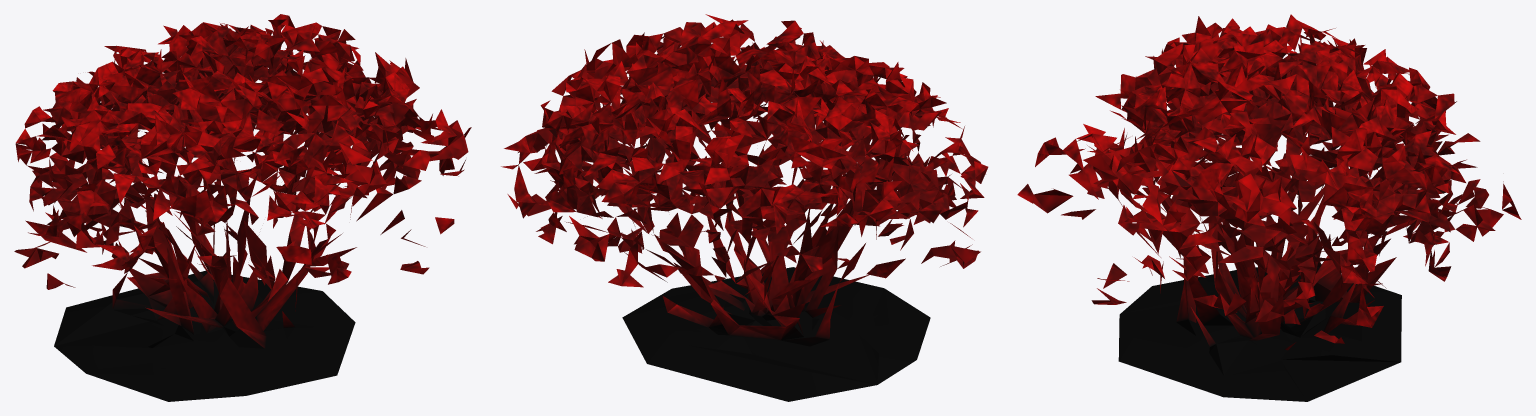
The model's file is prop_azalea.glb.
3 renders of one model, left to right at view 1: azimuth 30°, elevation 25°; view 2: azimuth 150°, elevation 25°; view 3: azimuth 270°, elevation 25°, orthographic. The views are drawn at different scales.
Parts seen in each view (by area): view 1: output_unwrapped; view 2: output_unwrapped; view 3: output_unwrapped.
Boxes of the visible parts, x1,y1,x2,y2 form: output_unwrapped: (14, 14, 471, 401); output_unwrapped: (501, 14, 988, 401); output_unwrapped: (1017, 14, 1521, 401).
Size of the model in its own units: 1.67 by 1.06 by 1.65.
Materials: 1 (1 with a texture image).
